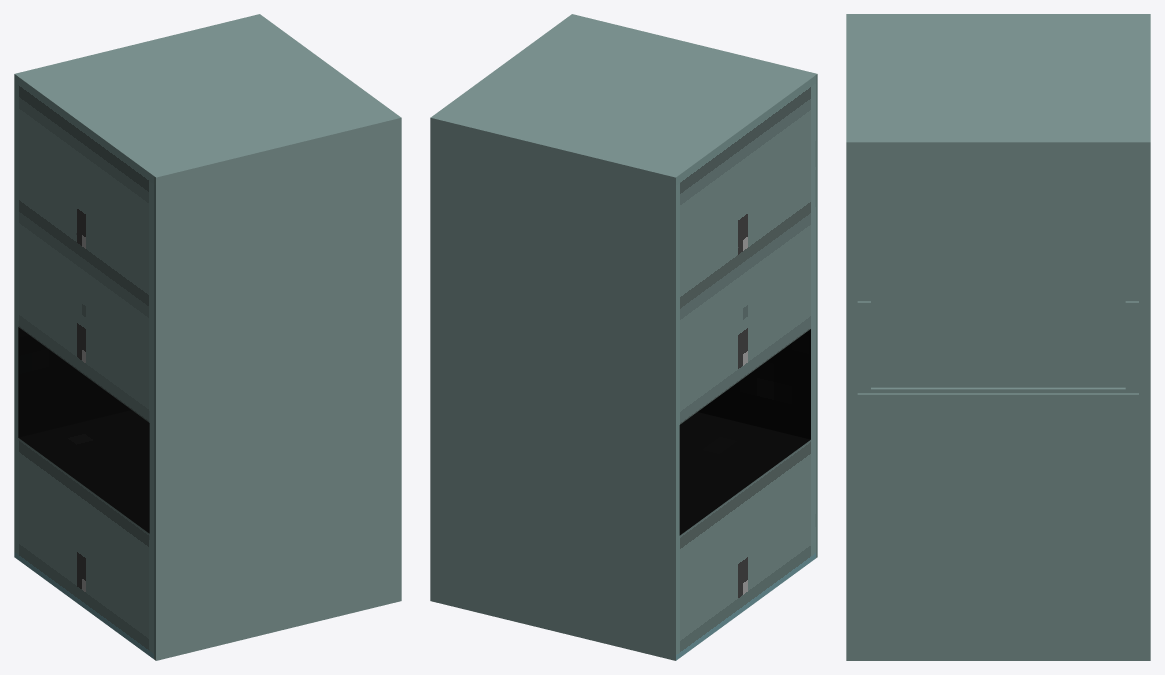
File: small-cabinet.glb
3 renders of one model, left to right at view 1: azimuth 30°, elevation 25°; view 2: azimuth 150°, elevation 25°; view 3: azimuth 270°, elevation 25°, orthographic. The views are drawn at different scales.
Parts seen in each view (by area): view 1: Cube; view 2: Cube; view 3: Cube, Cube.002.
Boxes of the visible parts, x1,y1,x2,y2 form: Cube: (14,14,401,660); Cube: (430,14,817,660); Cube: (846,14,1150,660); Cube.002: (857,301,1138,394).
Bounding box in the file's own units: 2.02 × 3.76 × 2.
1 material, 1 textured.
